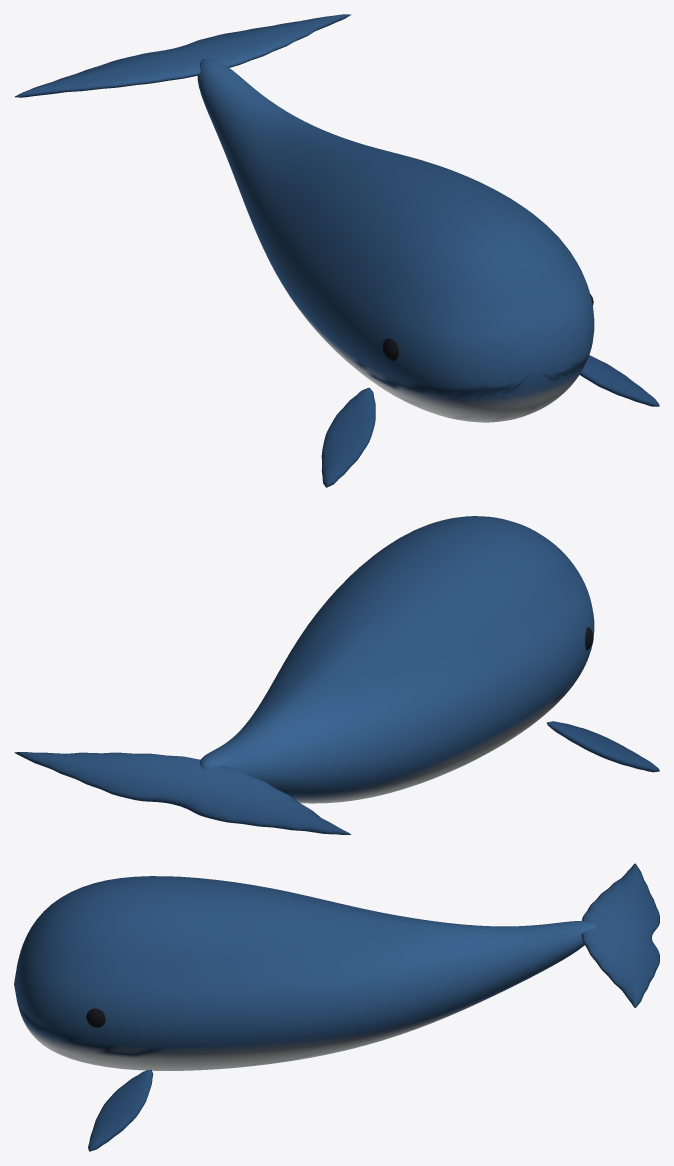
File: whale.glb
3 views of the same model, one above another, from view 1: azimuth 30°, elevation 25°; view 2: azimuth 150°, elevation 25°; view 3: azimuth 270°, elevation 25° (orthographic). The views are drawn at different scales.
Parts seen in each view (by area): view 1: Whale; view 2: Whale; view 3: Whale.
Part boxes in pixels (left/top/right/bottom): Whale: left=15, top=14, right=659, bottom=487; Whale: left=14, top=516, right=659, bottom=834; Whale: left=14, top=863, right=659, bottom=1151.
Bounding box in the file's own units: 0.5544 × 0.3456 × 1.04.
